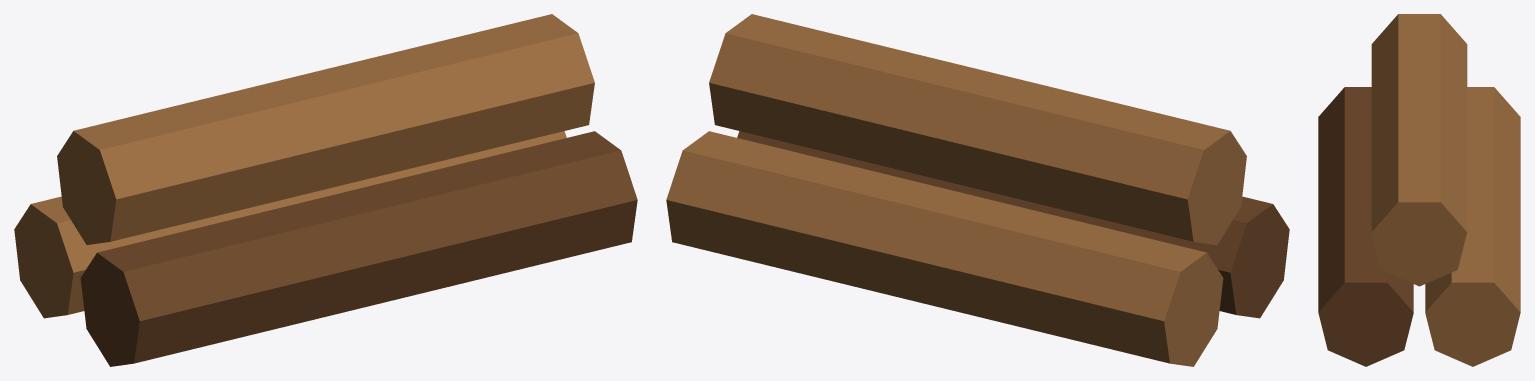
File: drop_logs.glb
The picture shows the model from 3 angles, left to right: view 1: azimuth 30°, elevation 25°; view 2: azimuth 150°, elevation 25°; view 3: azimuth 270°, elevation 25°; orthographic projection. The views are drawn at different scales.
Visible parts, largest first — view 1: drop_logs; view 2: drop_logs; view 3: drop_logs.
Part boxes in pixels (bbox=[...]): drop_logs: bbox=[14, 14, 637, 366]; drop_logs: bbox=[666, 14, 1289, 366]; drop_logs: bbox=[1318, 14, 1520, 366].
Bounding box in the file's own units: 0.52 × 0.1996 × 0.2272.
